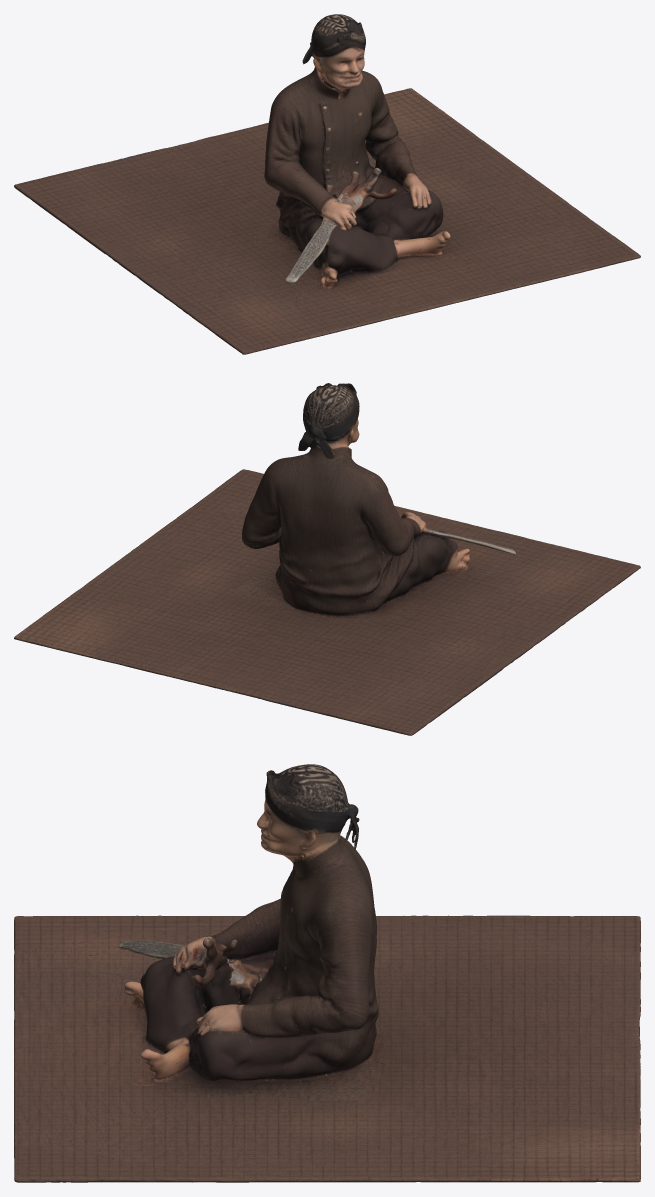
File: bapak-duduk.glb
The picture shows the model from 3 angles, top to bottom: view 1: azimuth 30°, elevation 25°; view 2: azimuth 150°, elevation 25°; view 3: azimuth 270°, elevation 25°; orthographic projection. The views are drawn at different scales.
Bounding box in the file's own units: 2 × 1.07 × 2.
Materials: 1 (1 with a texture image).
